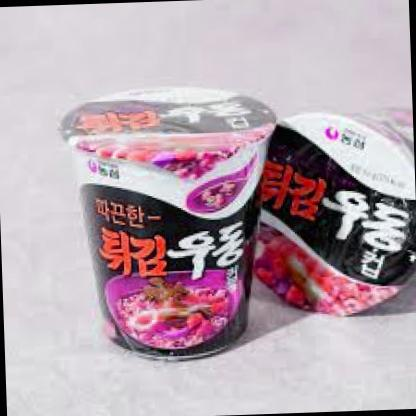Ramen: (63, 83, 280, 364), (246, 91, 416, 319)
